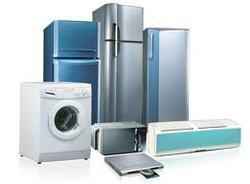AC: (152, 124, 240, 154)
Refrigerator: (100, 6, 143, 121), (146, 28, 189, 120), (47, 26, 98, 81)
